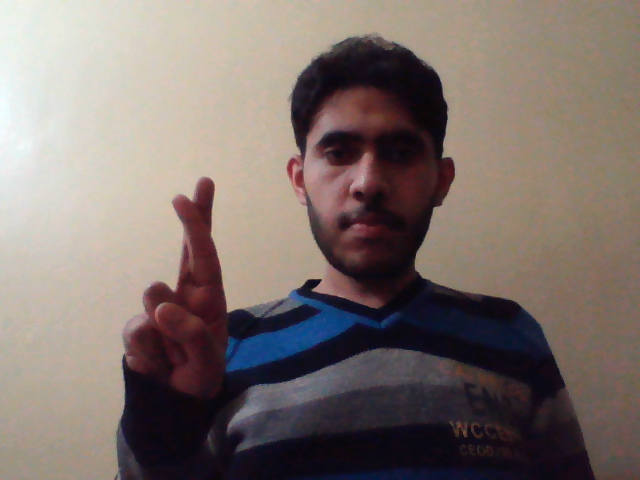R: (115, 168, 234, 416)
